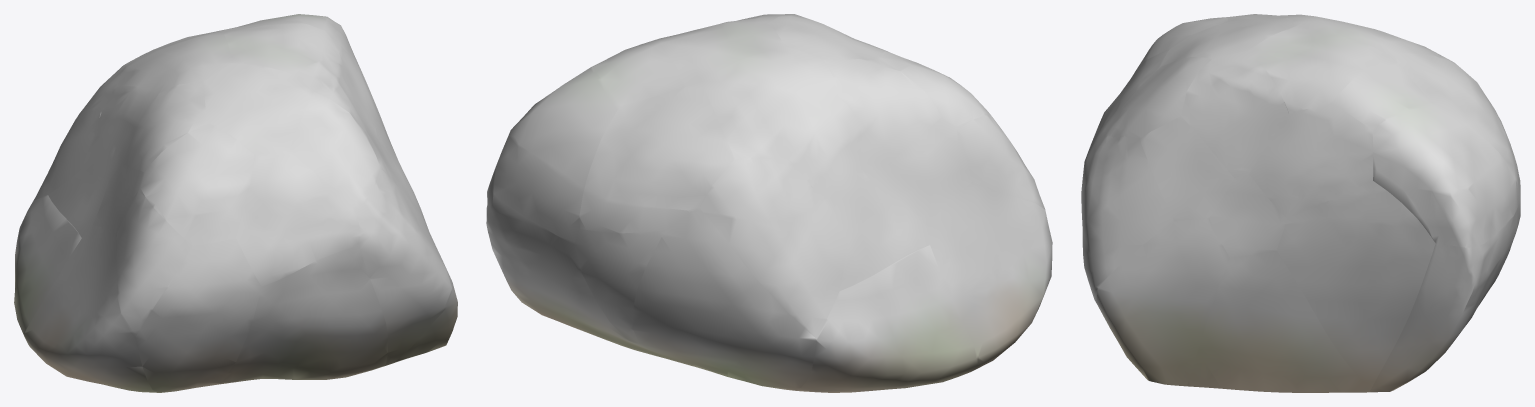
Rendered from rock_v1.glb.
3 views of the same model, side by side, from view 1: azimuth 30°, elevation 25°; view 2: azimuth 150°, elevation 25°; view 3: azimuth 270°, elevation 25° (orthographic). The views are drawn at different scales.
Visible parts, largest first — view 1: Chunk_02, Chunk_07, Chunk_04, Chunk_15, Chunk_10, Chunk_20, Chunk_28, Chunk_12, Chunk_23, Chunk_01, Chunk_29, Chunk_27 (+10 smaller); view 2: Chunk_06, Chunk_01, Chunk_19, Chunk_14, Chunk_04, Chunk_16, Chunk_27, Chunk_03, Chunk_22, Chunk_25, Chunk_11, Chunk_17 (+6 smaller); view 3: Chunk_08, Chunk_00, Chunk_16, Chunk_05, Chunk_21, Chunk_03, Chunk_10, Chunk_26, Chunk_29, Chunk_18, Chunk_19, Chunk_13 (+6 smaller).
Part boxes in pixels (x1=…): Chunk_02: x1=220, y1=246, x2=387, y2=384; Chunk_07: x1=135, y1=238, x2=261, y2=392; Chunk_04: x1=24, y1=225, x2=157, y2=392; Chunk_15: x1=236, y1=153, x2=359, y2=286; Chunk_10: x1=358, y1=169, x2=452, y2=366; Chunk_20: x1=140, y1=122, x2=254, y2=245; Chunk_28: x1=203, y1=63, x2=313, y2=154; Chunk_12: x1=116, y1=188, x2=192, y2=337; Chunk_23: x1=288, y1=92, x2=379, y2=211; Chunk_01: x1=14, y1=195, x2=81, y2=340; Chunk_29: x1=222, y1=22, x2=343, y2=73; Chunk_27: x1=118, y1=32, x2=231, y2=93; Chunk_06: x1=633, y1=207, x2=816, y2=390; Chunk_01: x1=795, y1=245, x2=978, y2=392; Chunk_19: x1=579, y1=82, x2=734, y2=233; Chunk_14: x1=699, y1=157, x2=849, y2=338; Chunk_04: x1=926, y1=182, x2=1052, y2=370; Chunk_16: x1=489, y1=67, x2=620, y2=244; Chunk_27: x1=702, y1=46, x2=838, y2=158; Chunk_03: x1=486, y1=185, x2=679, y2=362; Chunk_22: x1=787, y1=98, x2=890, y2=230; Chunk_25: x1=825, y1=59, x2=941, y2=164; Chunk_11: x1=574, y1=229, x2=666, y2=350; Chunk_17: x1=889, y1=117, x2=971, y2=224; Chunk_08: x1=1276, y1=181, x2=1435, y2=389; Chunk_00: x1=1187, y1=251, x2=1370, y2=392; Chunk_16: x1=1372, y1=102, x2=1517, y2=247; Chunk_05: x1=1097, y1=219, x2=1229, y2=386; Chunk_21: x1=1249, y1=103, x2=1373, y2=218; Chunk_03: x1=1370, y1=210, x2=1517, y2=392; Chunk_10: x1=1081, y1=136, x2=1173, y2=304; Chunk_26: x1=1181, y1=50, x2=1288, y2=177; Chunk_29: x1=1248, y1=26, x2=1385, y2=113; Chunk_18: x1=1140, y1=116, x2=1234, y2=220; Chunk_19: x1=1388, y1=53, x2=1517, y2=189; Chunk_13: x1=1208, y1=174, x2=1286, y2=257.
Bounding box in the file's own units: 2.75 × 1.78 × 2.5.
